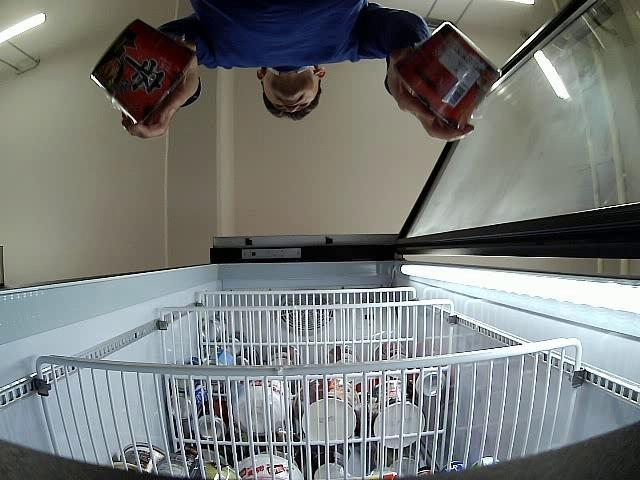01_ShinRamen_L: (394, 22, 502, 128), (90, 19, 198, 125)
